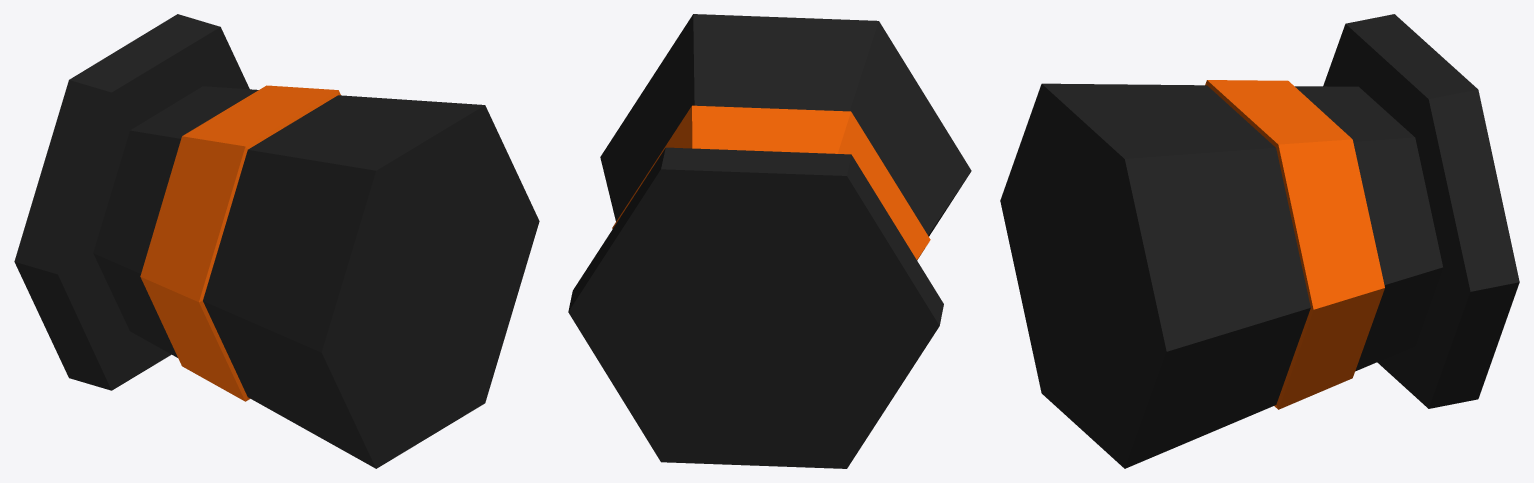
The model's file is TopHat.obj.
The picture shows the model from 3 angles, left to right: view 1: azimuth 30°, elevation 25°; view 2: azimuth 150°, elevation 25°; view 3: azimuth 270°, elevation 25°; orthographic projection. The views are drawn at different scales.
Visible parts, largest first — view 1: Cylinder001, Cylinder004; view 2: Cylinder001, Cylinder004; view 3: Cylinder001, Cylinder004.
Part boxes in pixels (x1=…): Cylinder001: x1=14, y1=14, x2=539, y2=468; Cylinder004: x1=140, y1=85, x2=340, y2=401; Cylinder001: x1=568, y1=14, x2=971, y2=468; Cylinder004: x1=612, y1=105, x2=930, y2=260; Cylinder001: x1=1000, y1=14, x2=1519, y2=468; Cylinder004: x1=1205, y1=80, x2=1384, y2=409.
Size of the model in its own units: 0.0935 by 0.0612 by 0.093.
